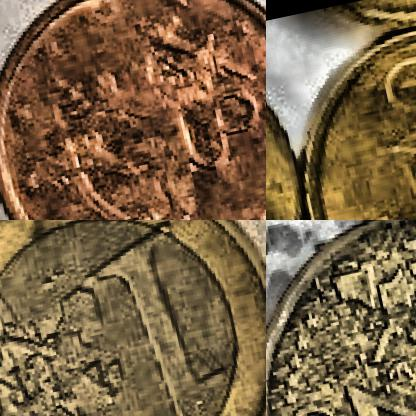coin: (0, 0, 265, 219), (0, 220, 265, 415), (275, 0, 415, 219), (266, 220, 415, 415)
